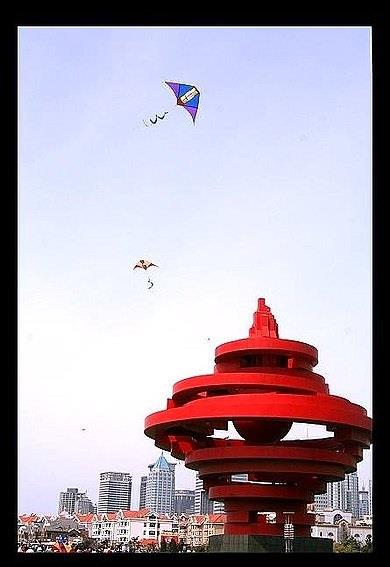may_wind: (142, 293, 369, 532)
